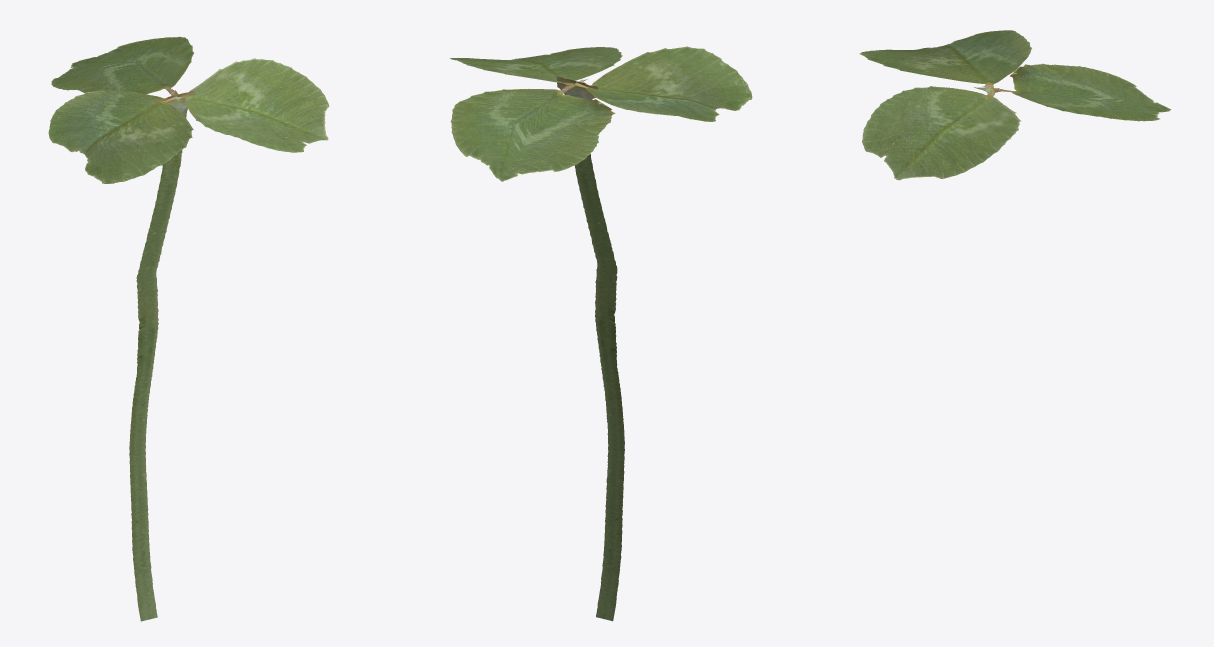
File: Clover.fbx
3 renders of one model, left to right at view 1: azimuth 30°, elevation 25°; view 2: azimuth 150°, elevation 25°; view 3: azimuth 270°, elevation 25°, orthographic. The views are drawn at different scales.
Parts seen in each view (by area): view 1: Plane001; view 2: Plane001; view 3: Plane001.
Boxes of the visible parts, x1,y1,x2,y2 form: Plane001: (48,36,329,621); Plane001: (449,46,752,621); Plane001: (859,30,1171,180).
Size of the model in its own units: 14.59 by 25.35 by 16.55.
Materials: 1 (1 with a texture image).
